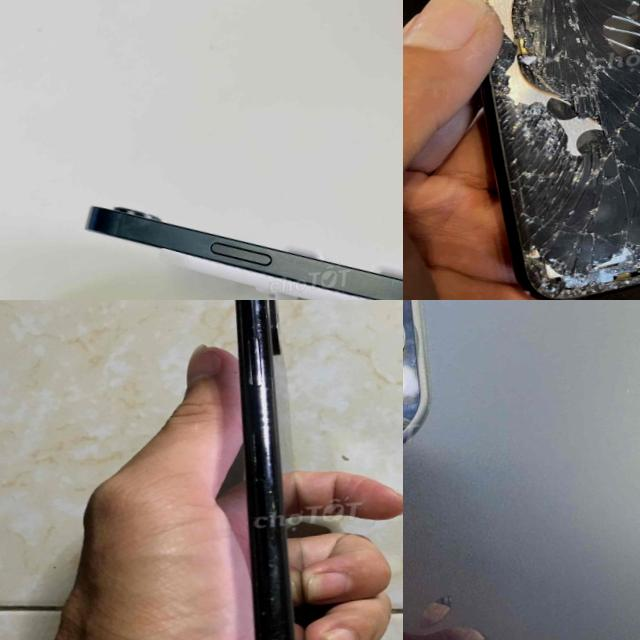gen_14: (403, 300, 640, 640)
gen_16: (86, 206, 403, 300)
gen_7_8: (431, 0, 640, 300)
gen_x_xs: (235, 300, 316, 640)
physical_damage: (475, 211, 640, 300), (469, 102, 640, 170), (476, 161, 640, 229), (472, 50, 626, 116), (474, 0, 625, 61)
scratch: (403, 373, 457, 449), (245, 300, 268, 349), (253, 476, 280, 508), (259, 624, 292, 640), (263, 588, 279, 610)
